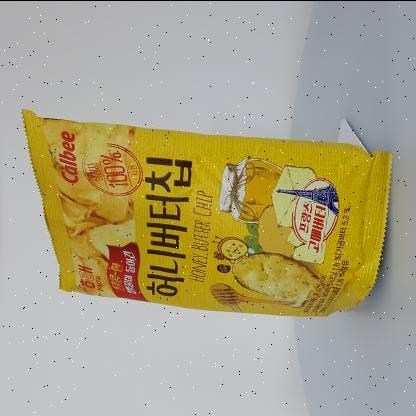Others: (17, 102, 395, 324)
